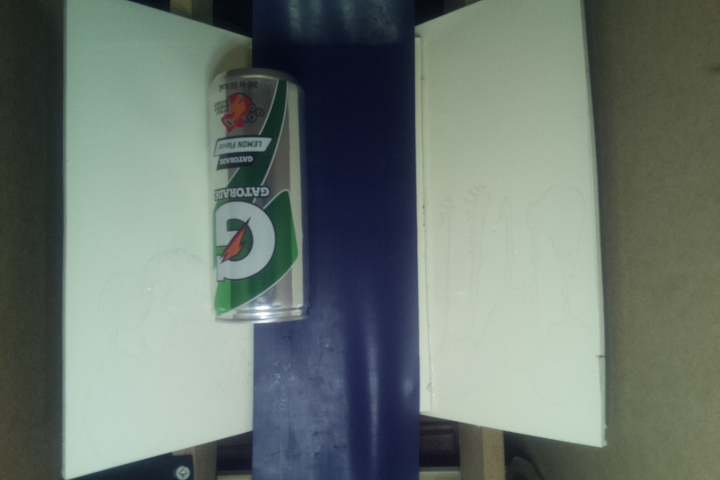can: (211, 69, 308, 326)
